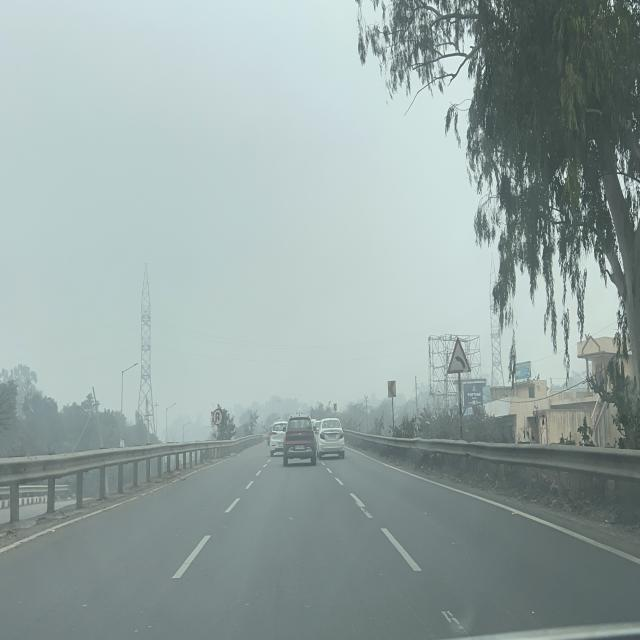LEFT_TURN_AHEAD: (447, 336, 471, 375)
TURN_LEFT: (388, 380, 396, 398), (333, 403, 338, 411)
U_TURN_PROHIBITED: (212, 407, 223, 426)
